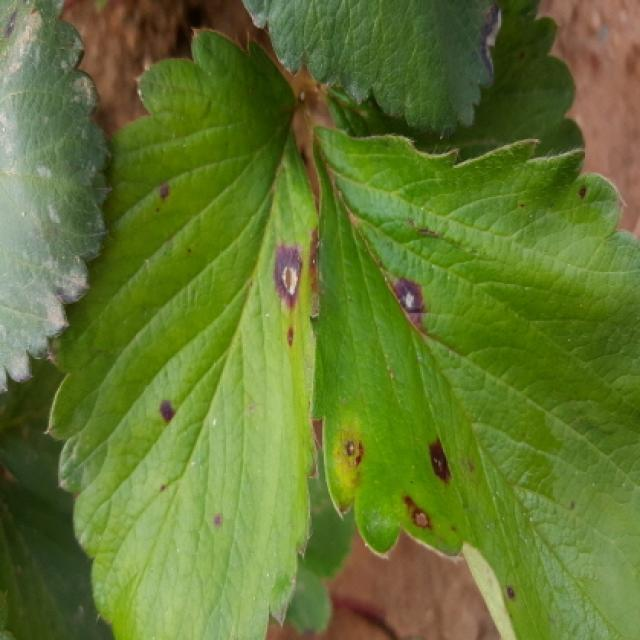Leaf Spot: (308, 124, 638, 638), (46, 28, 319, 638), (243, 0, 501, 137)
